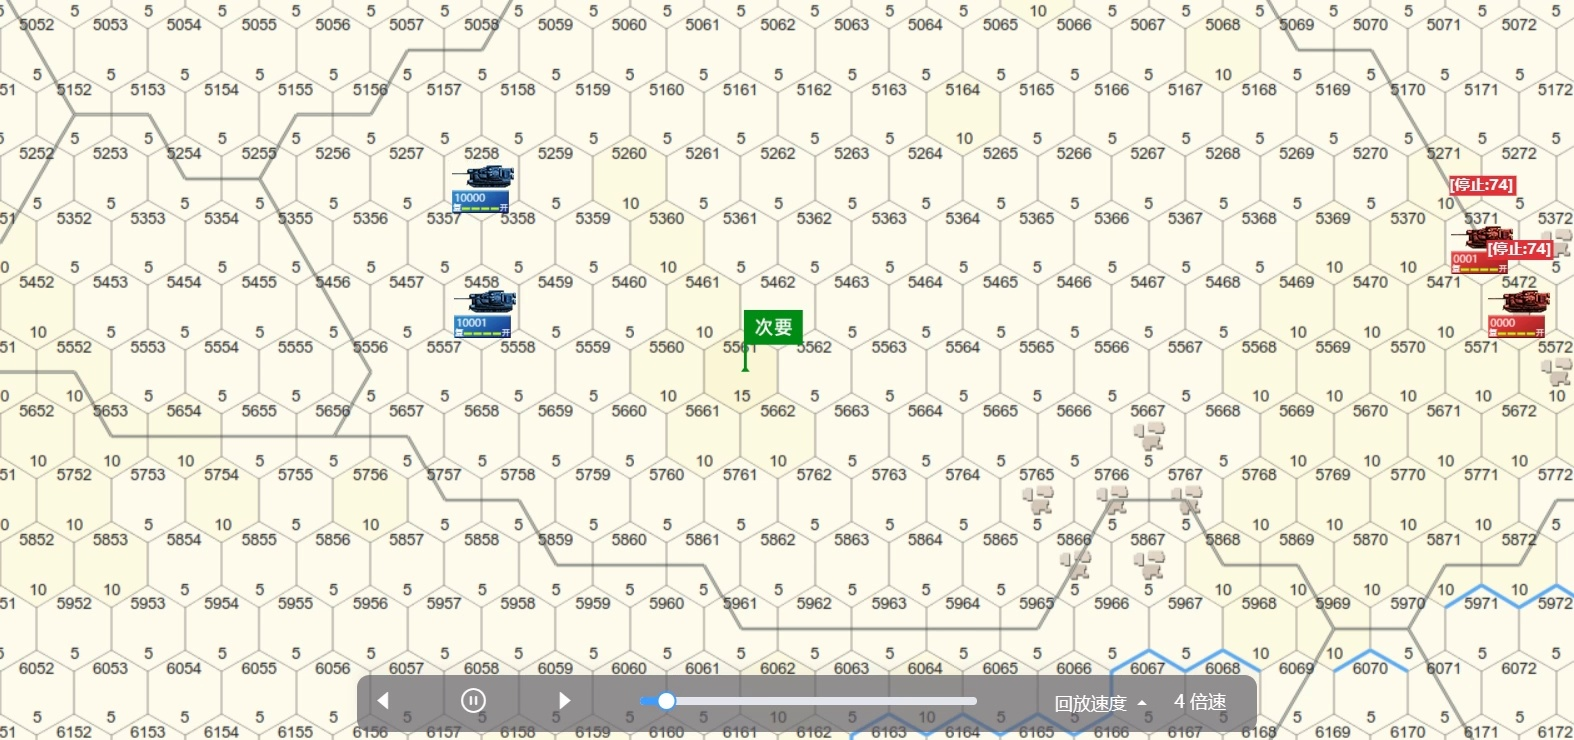blue_tank: (449, 165, 514, 215), (459, 291, 512, 337)
red_tank: (1448, 222, 1509, 273), (1492, 295, 1549, 337)
